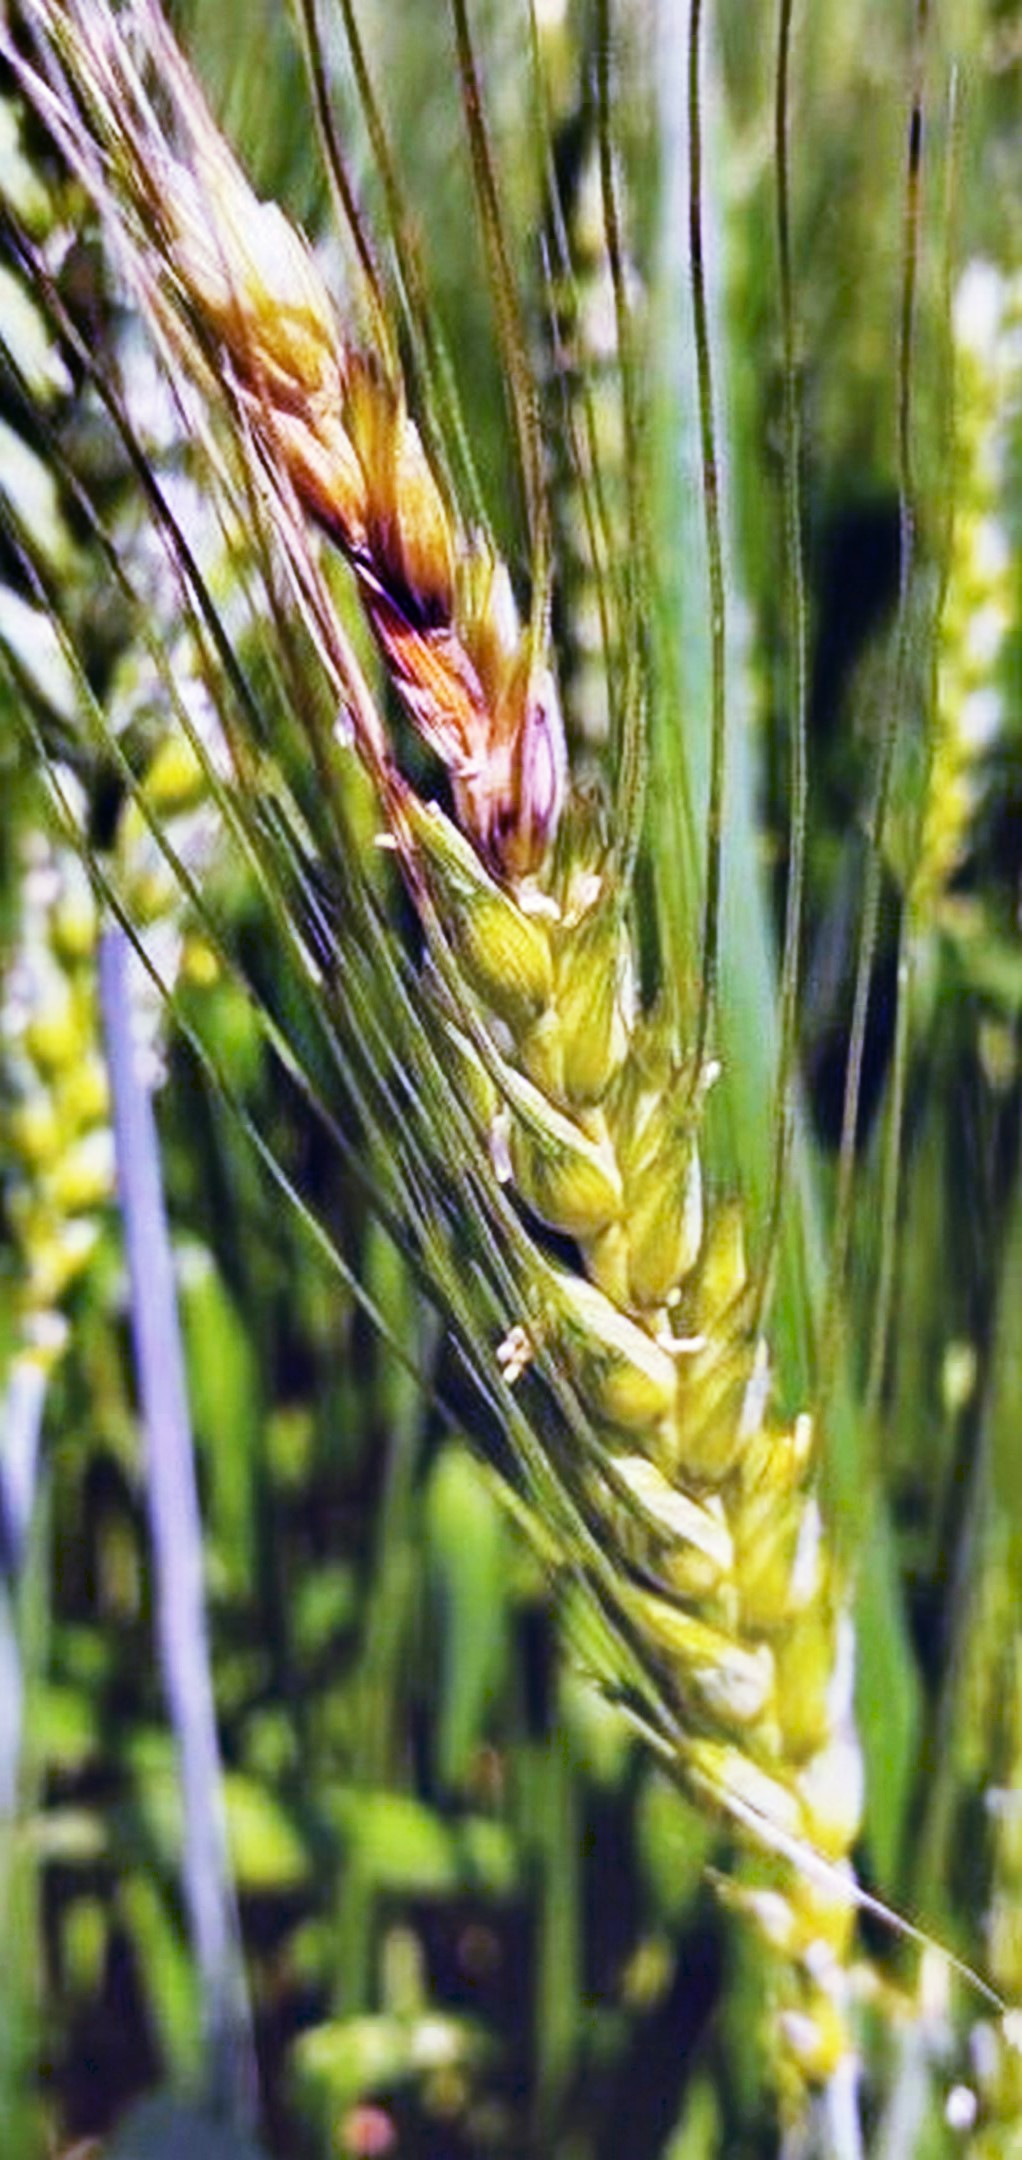Wheat scab: (168, 180, 931, 1933)
